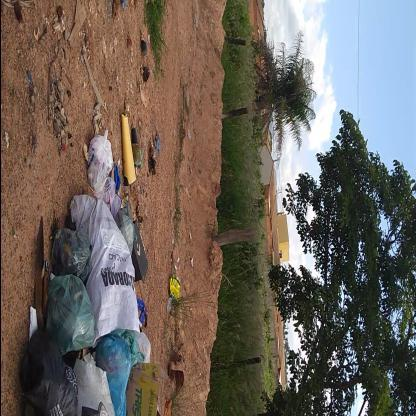lixo: (11, 112, 150, 416)
